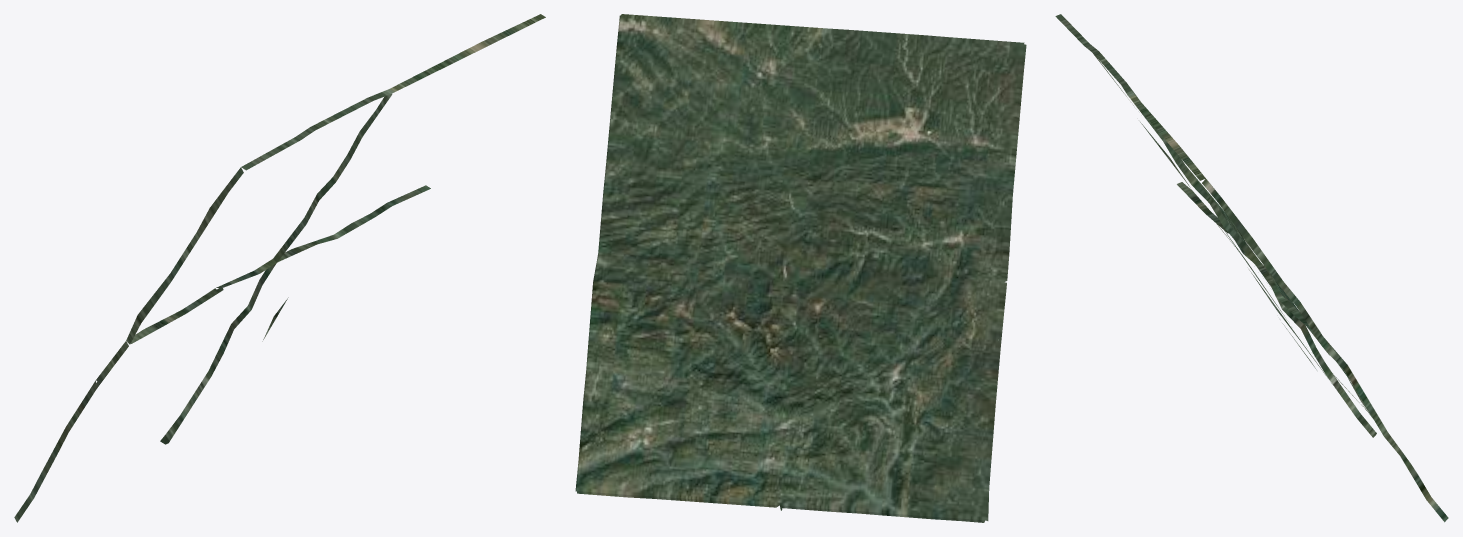
3 renders of one model, left to right at view 1: azimuth 30°, elevation 25°; view 2: azimuth 150°, elevation 25°; view 3: azimuth 270°, elevation 25°, orthographic. The views are drawn at different scales.
Bounding box in the file's own units: 155855 × 135636 × 126027.
Materials: 1 (1 with a texture image).
